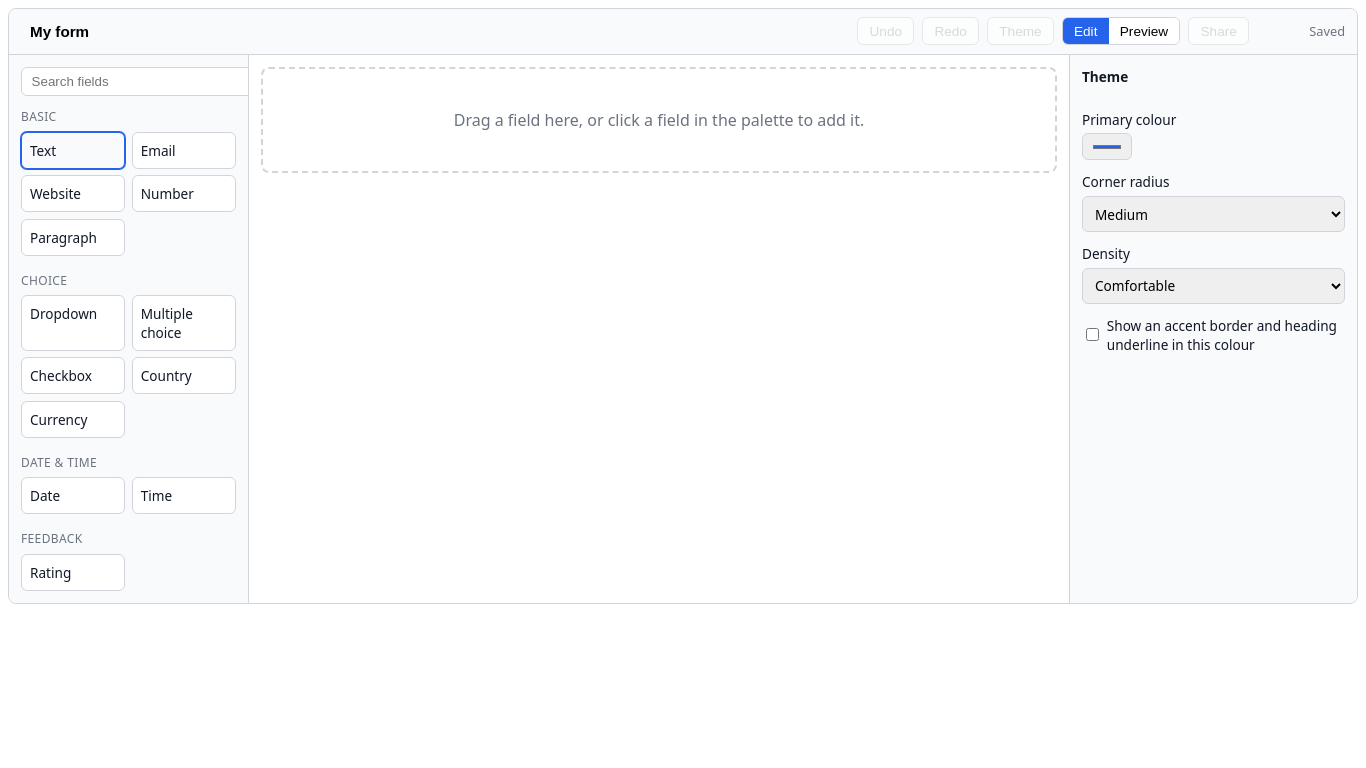
Test case: Builder › editing the label in the Basic tab updates the field on the canvas
Click the option with aria-label "Add Text field" at (73, 150), box [21,132,125,169]
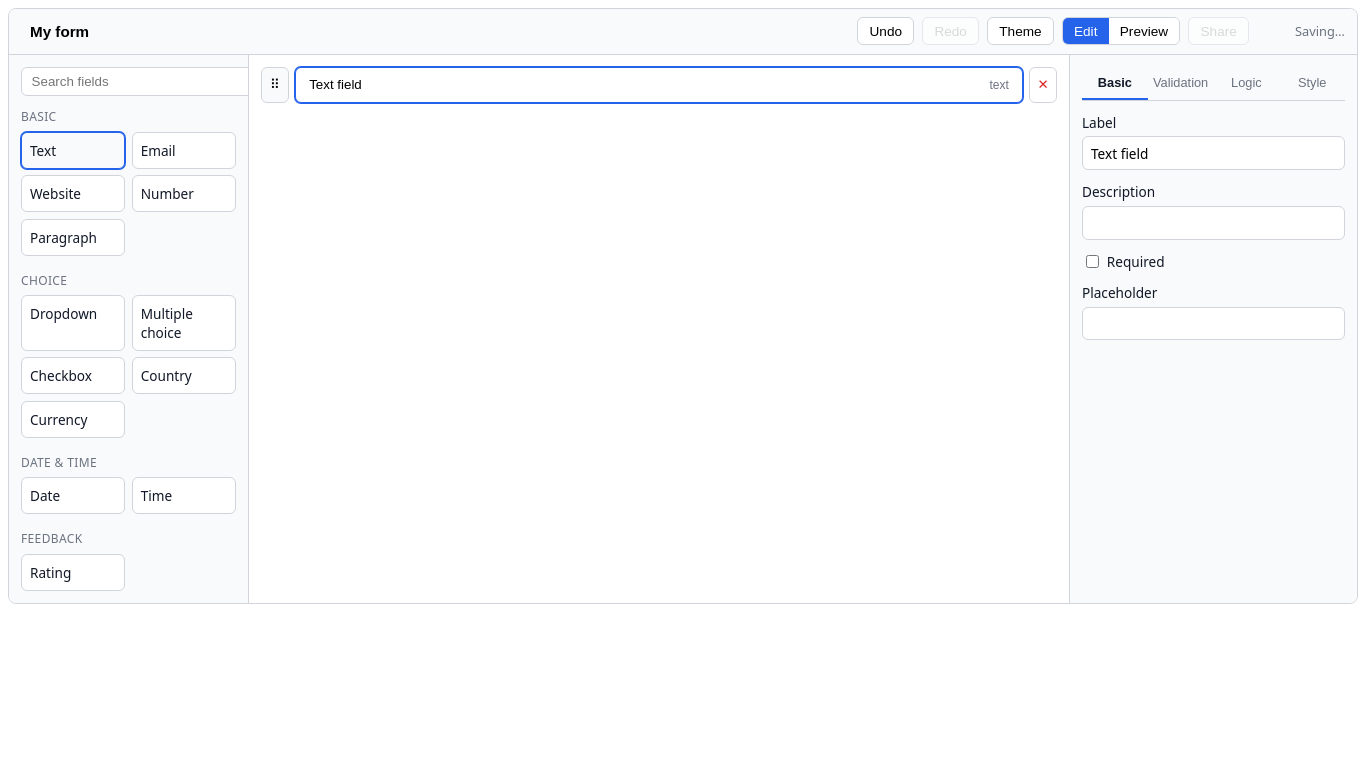
Replace the text in the field labelled "Label" with "Full name" at (1214, 153), box [1082,136,1345,170]
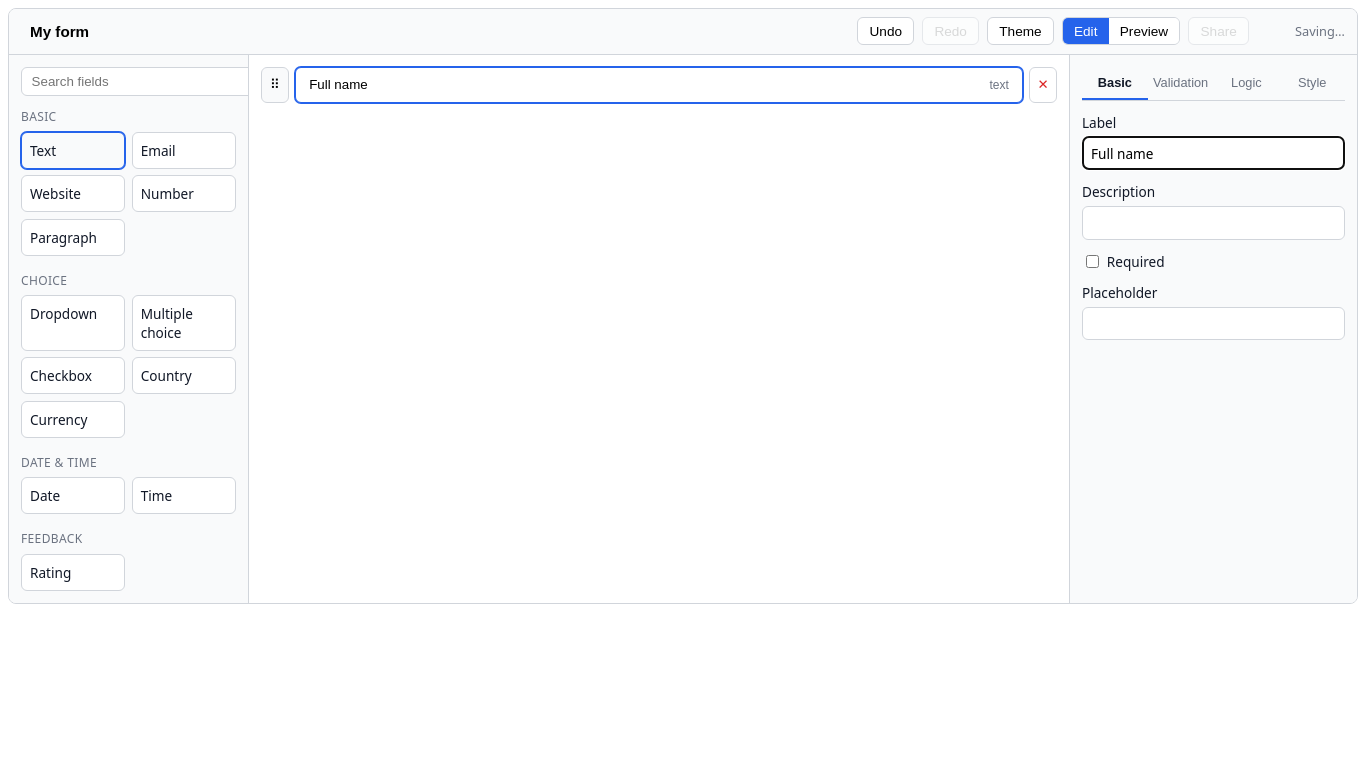
Check: the button "Full name text" is shown, box [295,67,1023,103]
